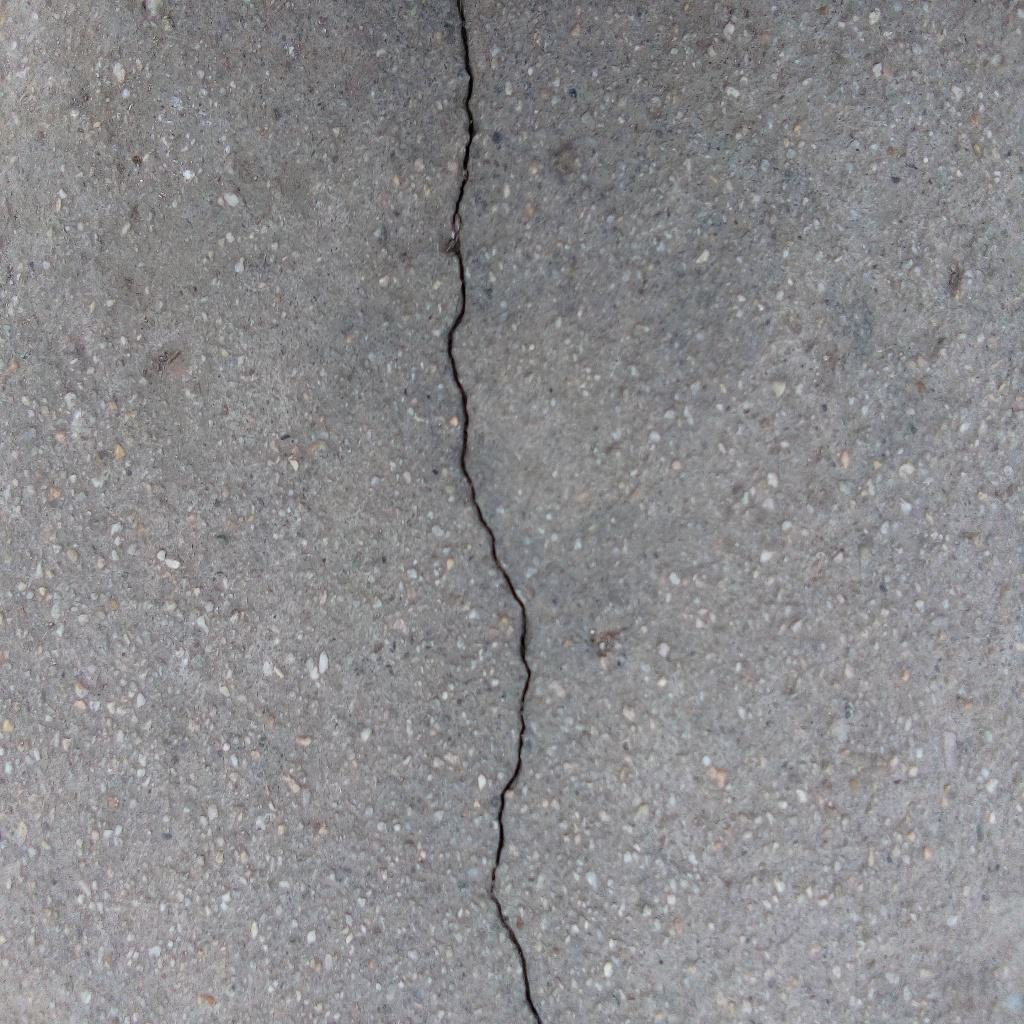Crack: (446, 1, 545, 1024)
